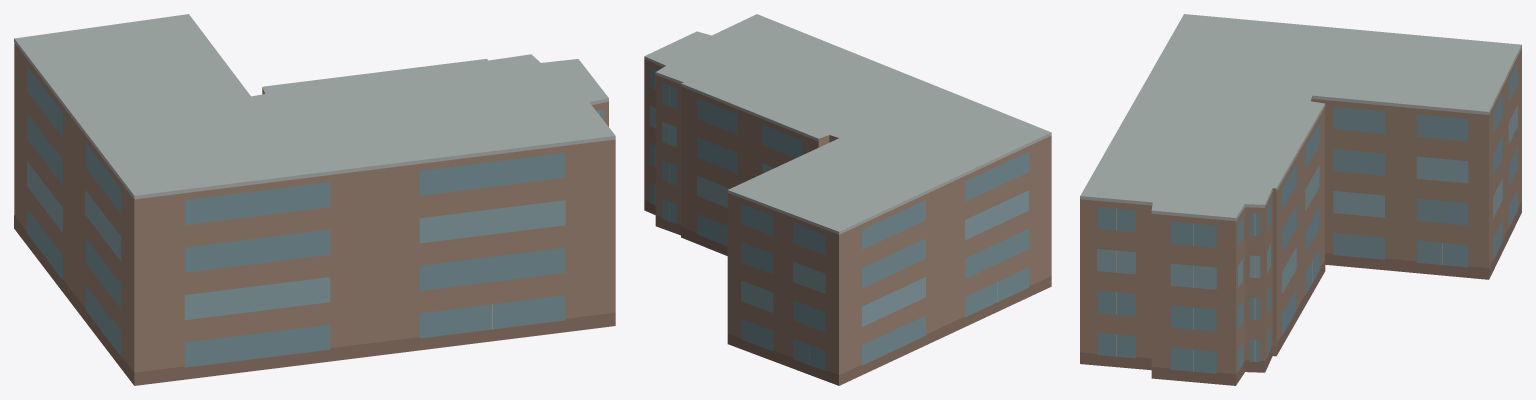
The model's file is survey-upis-32752689.glb.
3 views of the same model, side by side, from view 1: azimuth 30°, elevation 25°; view 2: azimuth 150°, elevation 25°; view 3: azimuth 270°, elevation 25° (orthographic). The views are drawn at different scales.
Parts seen in each view (by area): view 1: survey-upis-32752689.tmp; view 2: survey-upis-32752689.tmp; view 3: survey-upis-32752689.tmp.
Boxes of the visible parts, x1,y1,x2,y2 form: survey-upis-32752689.tmp: (14, 14, 615, 385); survey-upis-32752689.tmp: (644, 14, 1051, 385); survey-upis-32752689.tmp: (1080, 14, 1521, 385).
Bounding box in the file's own units: 33.1 × 12.7 × 30.29.
